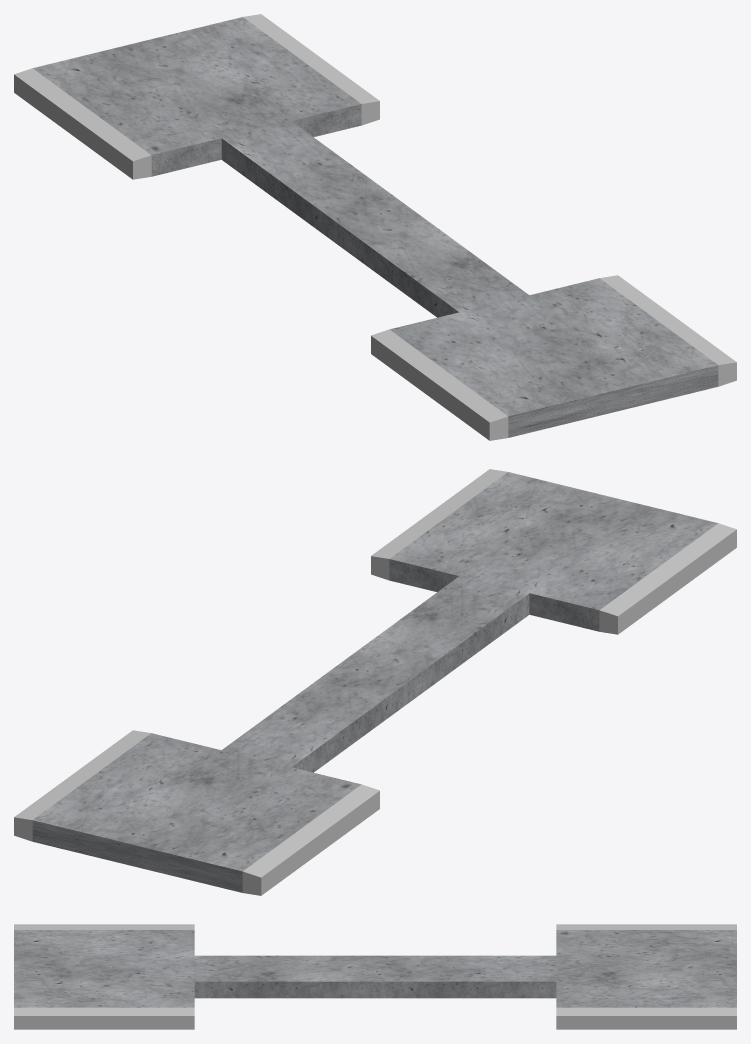
Rendered from Platform-Base-Middle.fbx.
3 renders of one model, top to bottom at view 1: azimuth 30°, elevation 25°; view 2: azimuth 150°, elevation 25°; view 3: azimuth 270°, elevation 25°, orthographic. The views are drawn at different scales.
Parts seen in each view (by area): view 1: Platform-Base-Middle; view 2: Platform-Base-Middle; view 3: Platform-Base-Middle.
Boxes of the visible parts, <box> form: Platform-Base-Middle: <box>14,14,736,440</box>; Platform-Base-Middle: <box>14,469,736,895</box>; Platform-Base-Middle: <box>14,924,736,1029</box>.
Size of the model in its own units: 24 by 80 by 2.
